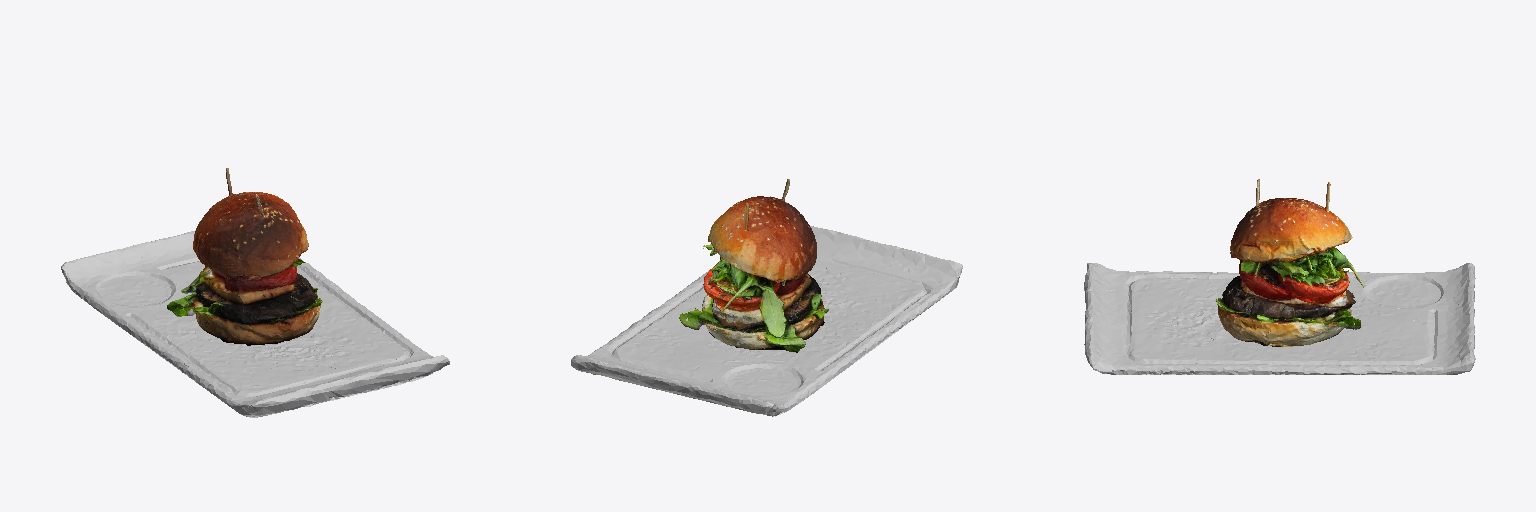
3 views of the same model, side by side, from view 1: azimuth 30°, elevation 25°; view 2: azimuth 150°, elevation 25°; view 3: azimuth 270°, elevation 25° (orthographic).
Visible parts, largest first — view 1: mmGroup0; view 2: mmGroup0; view 3: mmGroup0.
Part boxes in pixels (x1,y1,x2,y2): mmGroup0: (61,168,449,417); mmGroup0: (571,179,962,416); mmGroup0: (1084,179,1475,374).
Size of the model in its own units: 0.1827 by 0.1216 by 0.3004.
2 materials, 1 textured.